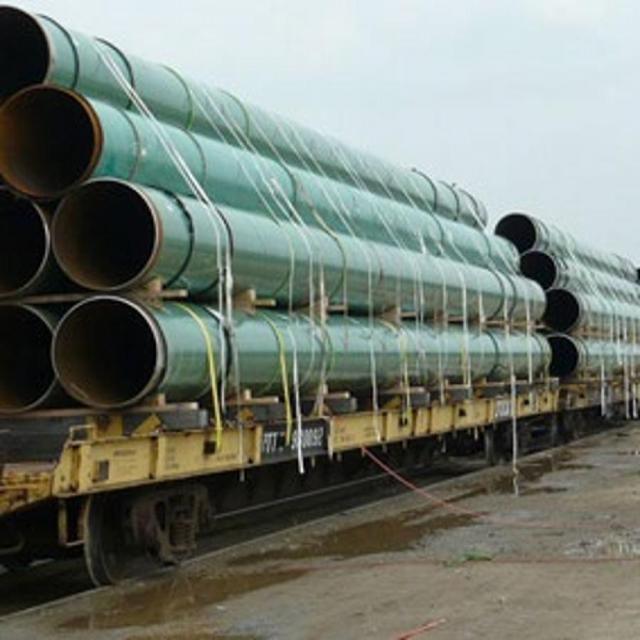cargo: (0, 0, 555, 423), (492, 204, 640, 376)
flatcar: (0, 373, 563, 605), (561, 370, 640, 436)
